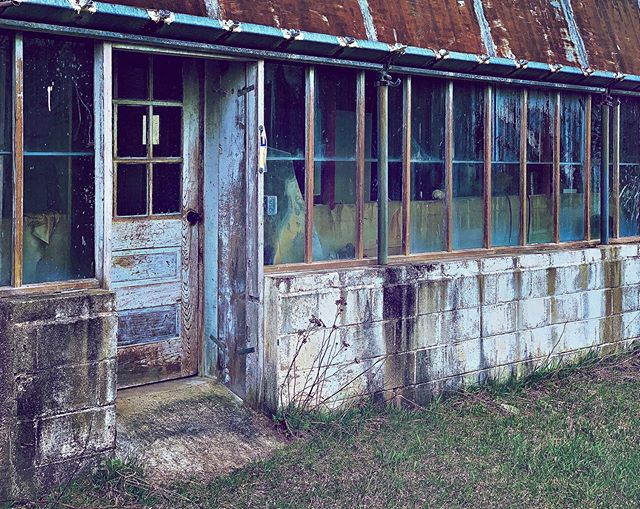building: (4, 1, 640, 496)
door: (108, 50, 204, 378)
window: (266, 80, 623, 281)
